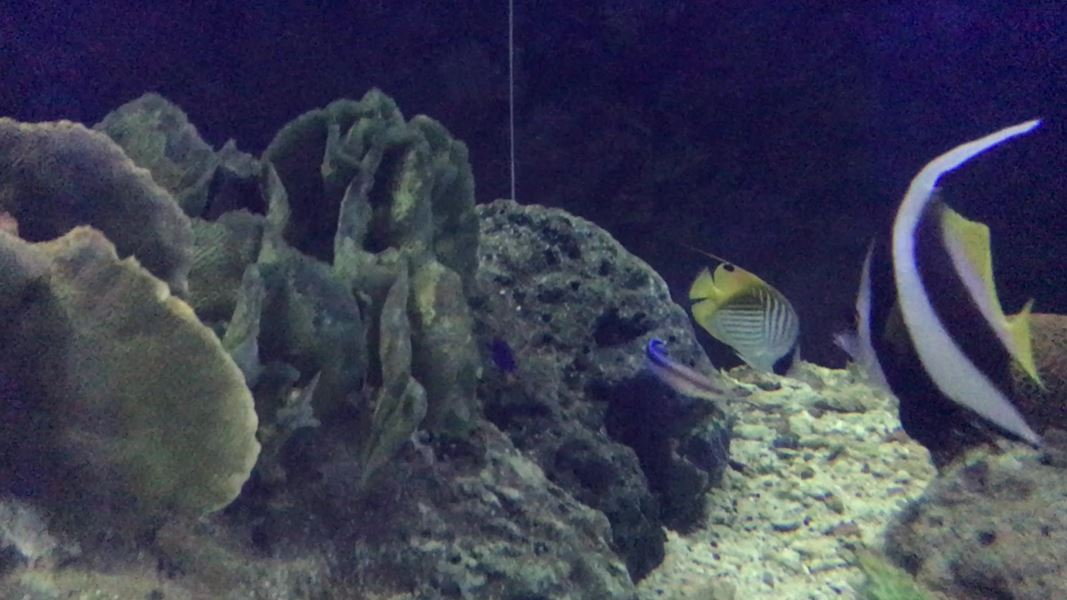Bluesteak cleaner wrasse: (644, 323, 754, 409)
